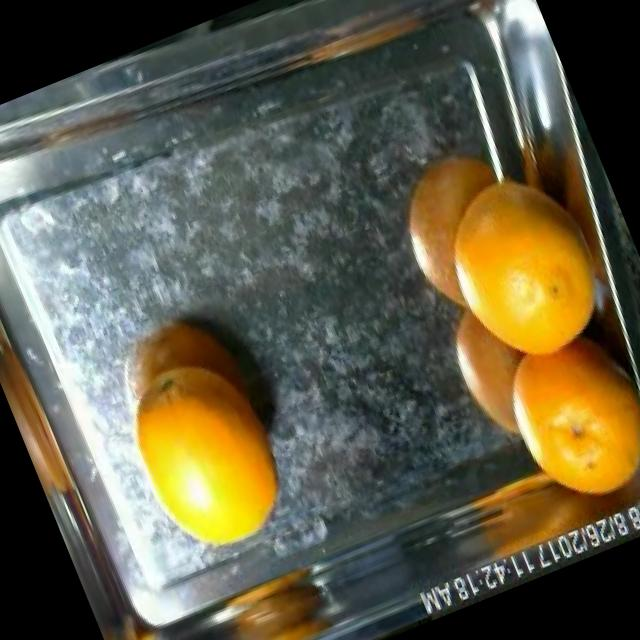Fruit: (104, 342, 322, 586), (206, 558, 348, 640)
